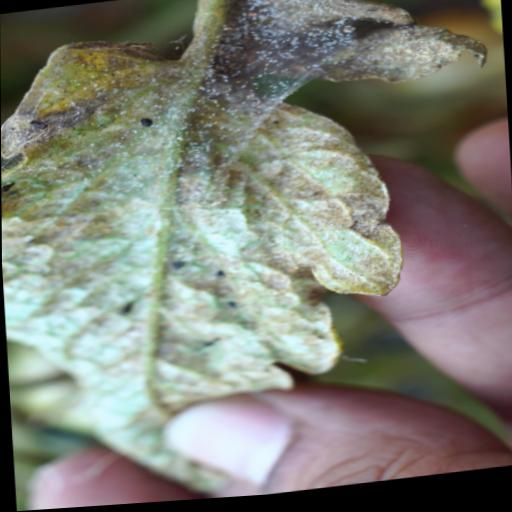Spider Mites: (0, 0, 507, 491)
